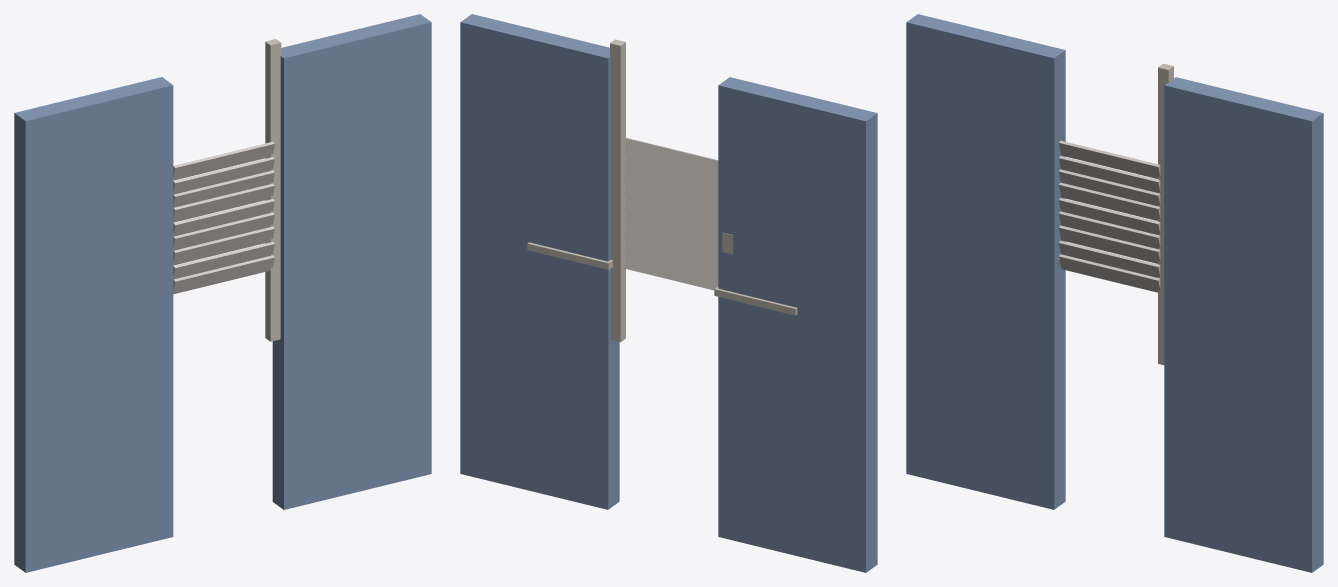
File: WALLS.fbx
3 renders of one model, left to right at view 1: azimuth 30°, elevation 25°; view 2: azimuth 150°, elevation 25°; view 3: azimuth 330°, elevation 25°, orthographic.
Parts seen in each view (by area): view 1: plane_2__3_, plane_2__2_, plane_2__6_, plane_2__5_, plane_2__9_, plane_2__12_, plane_2__15_, plane_2__10_, plane_2__8_, plane_2__14_, plane_2__11_, plane_2__13_; view 2: plane_2__3_, plane_2__2_, plane_2__6_, plane_2__15_, plane_2__11_, plane_2__14_, plane_2__8_, plane_2__9_, plane_2__10_, plane_2__13_, plane_2__5_, plane_2__12_ (+2 smaller); view 3: plane_2__2_, plane_2__3_, plane_2__6_, plane_2__5_, plane_2__12_, plane_2__15_, plane_2__9_, plane_2__10_, plane_2__8_, plane_2__11_, plane_2__14_, plane_2__13_.
Boxes of the visible parts, left/top/right/bottom form: plane_2__3_: left=14, top=77, right=173, bottom=572; plane_2__2_: left=272, top=14, right=431, bottom=509; plane_2__6_: left=265, top=39, right=281, bottom=341; plane_2__5_: left=173, top=255, right=274, bottom=294; plane_2__9_: left=173, top=226, right=274, bottom=265; plane_2__12_: left=173, top=183, right=274, bottom=222; plane_2__15_: left=173, top=141, right=274, bottom=180; plane_2__10_: left=173, top=212, right=274, bottom=250; plane_2__8_: left=173, top=242, right=274, bottom=279; plane_2__14_: left=173, top=157, right=274, bottom=194; plane_2__11_: left=173, top=199, right=274, bottom=236; plane_2__13_: left=173, top=170, right=274, bottom=207; plane_2__3_: left=718, top=77, right=877, bottom=572; plane_2__2_: left=460, top=14, right=619, bottom=509; plane_2__6_: left=610, top=39, right=625, bottom=342; plane_2__15_: left=624, top=137, right=718, bottom=177; plane_2__11_: left=624, top=197, right=718, bottom=234; plane_2__14_: left=624, top=155, right=718, bottom=192; plane_2__8_: left=624, top=240, right=718, bottom=277; plane_2__9_: left=624, top=226, right=718, bottom=262; plane_2__10_: left=624, top=212, right=718, bottom=248; plane_2__13_: left=624, top=170, right=718, bottom=206; plane_2__5_: left=624, top=255, right=718, bottom=290; plane_2__12_: left=624, top=184, right=718, bottom=219; plane_2__2_: left=1164, top=77, right=1323, bottom=572; plane_2__3_: left=906, top=14, right=1065, bottom=509; plane_2__6_: left=1158, top=63, right=1173, bottom=365; plane_2__5_: left=1058, top=254, right=1160, bottom=292; plane_2__12_: left=1059, top=182, right=1160, bottom=220; plane_2__15_: left=1059, top=140, right=1160, bottom=178; plane_2__9_: left=1059, top=225, right=1160, bottom=263; plane_2__10_: left=1058, top=211, right=1160, bottom=248; plane_2__8_: left=1059, top=240, right=1160, bottom=277; plane_2__11_: left=1059, top=198, right=1160, bottom=234; plane_2__14_: left=1059, top=156, right=1160, bottom=192; plane_2__13_: left=1058, top=169, right=1160, bottom=206.
Size of the model in its own units: 955 by 1044 by 53.15.
